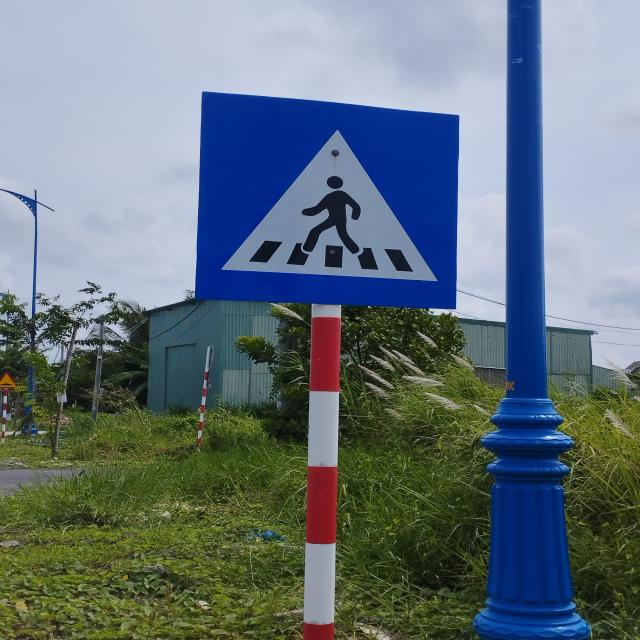Giao_Nhau_Duong_Uu_Tien: (196, 92, 461, 308)
